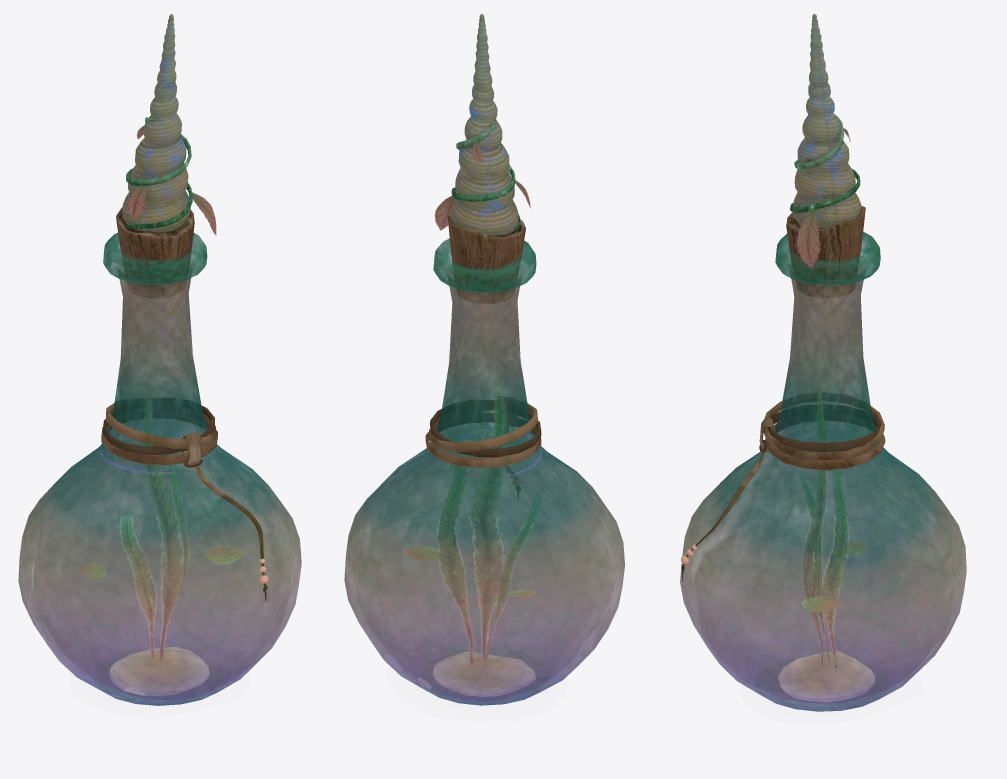
Rendered from potions3.glb.
3 renders of one model, left to right at view 1: azimuth 30°, elevation 25°; view 2: azimuth 150°, elevation 25°; view 3: azimuth 270°, elevation 25°, orthographic. The views are drawn at different scales.
Visible parts, largest first — view 1: Potion2_Glass_0, Potion2_Objects_0, Potion2_Plants_0, Potion2_Liquid_0; view 2: Potion2_Glass_0, Potion2_Objects_0, Potion2_Plants_0, Potion2_Liquid_0; view 3: Potion2_Glass_0, Potion2_Objects_0, Potion2_Plants_0, Potion2_Liquid_0.
Part boxes in pixels (x1,y1,x2,y2): Potion2_Glass_0: (18,233,301,705); Potion2_Objects_0: (101,14,268,690); Potion2_Plants_0: (80,117,242,659); Potion2_Liquid_0: (70,632,256,699); Potion2_Glass_0: (344,238,624,705); Potion2_Objects_0: (425,14,541,692); Potion2_Plants_0: (406,119,539,663); Potion2_Liquid_0: (407,647,572,700); Potion2_Glass_0: (680,231,966,711); Potion2_Objects_0: (681,14,885,696); Potion2_Plants_0: (790,113,866,668); Potion2_Liquid_0: (728,631,927,702).
Bounding box in the file's own units: 118 × 299 × 126.
Materials: 5 (5 with a texture image).
